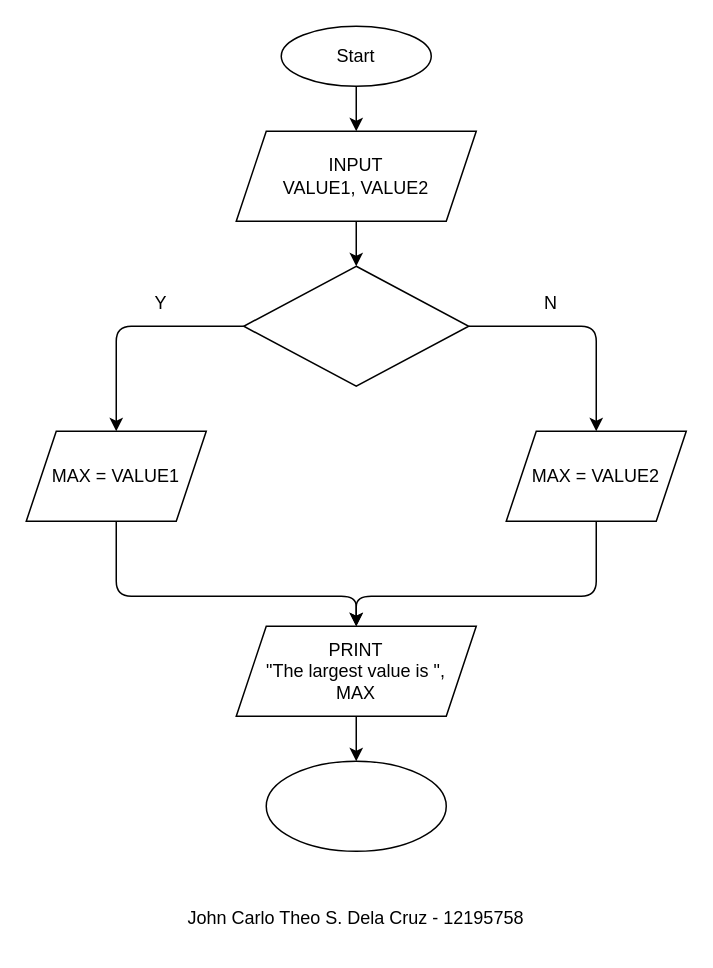
Some shapes in this 713 by 968 pixel diagram are drawn without their labels. Each missing label, with the box of its shape:
End: (265, 760, 446, 851)
VALUE1 > VALUE2: (242, 265, 469, 386)
